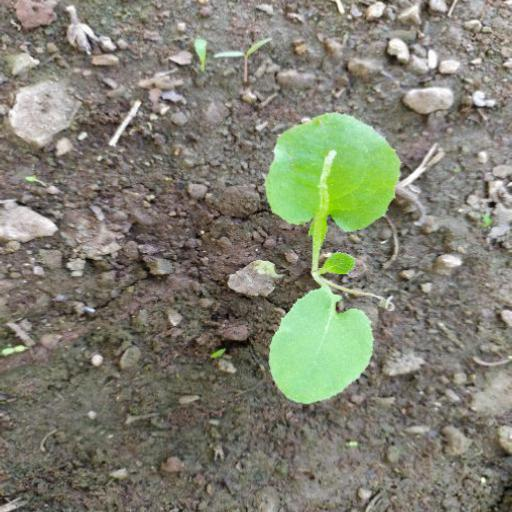weed: (258, 105, 397, 415)
